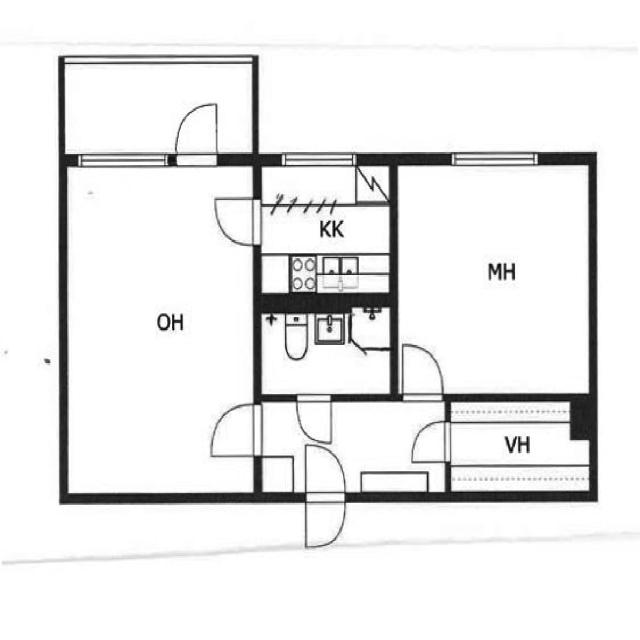door: (296, 438, 352, 554), (200, 397, 268, 463), (394, 337, 452, 410), (168, 97, 226, 168), (208, 193, 266, 247), (291, 388, 338, 451), (403, 415, 454, 470)
window: (448, 142, 542, 176), (72, 144, 172, 174), (275, 145, 361, 173)
zone: (64, 157, 261, 498), (396, 160, 598, 396), (255, 159, 394, 300), (260, 397, 448, 501), (451, 396, 596, 500), (254, 304, 396, 403)
